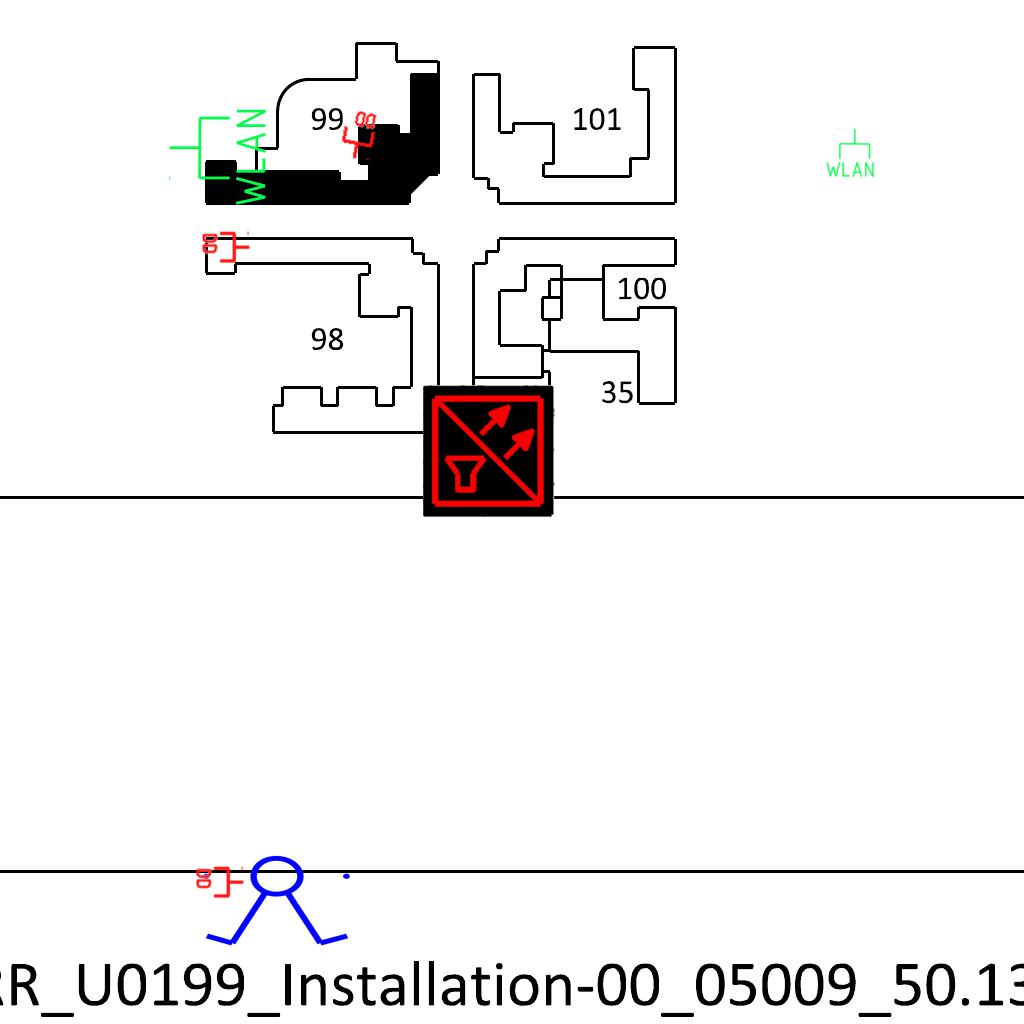Datenanschluss_zweifach: (336, 106, 380, 163), (200, 231, 251, 265), (194, 866, 245, 900)
OKW_Multisensormelder_(Kombination_optischer_Rauch-Kahlenmonoxid_Waerme-Melder): (423, 385, 555, 517)
Serienschalter: (194, 854, 362, 950)
WLAN: (166, 105, 270, 210), (824, 127, 876, 179)
